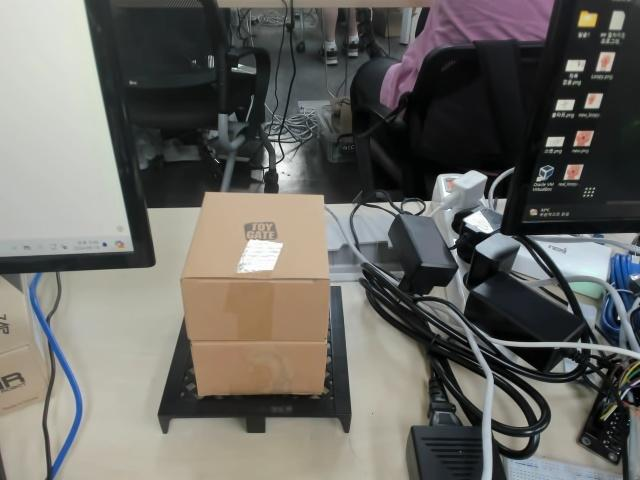box: (155, 189, 355, 437)
